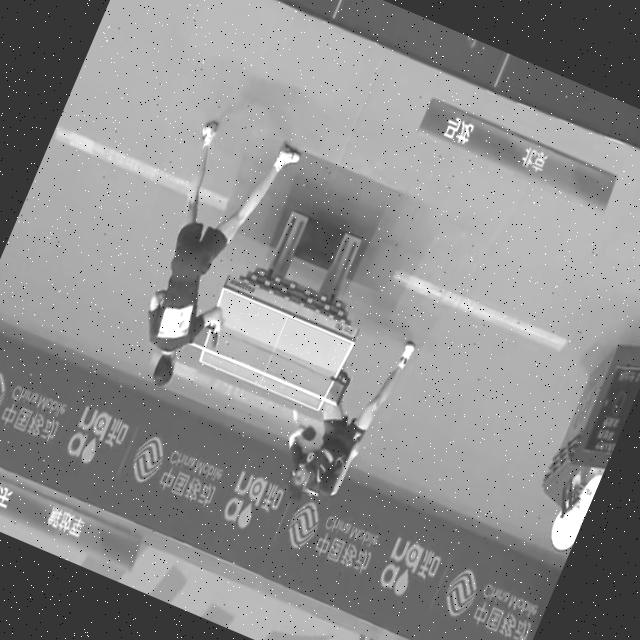ping-pong-ball: (286, 404, 303, 426)
